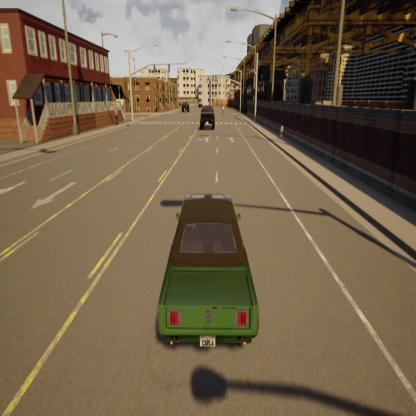Cars: (141, 185, 264, 363), (198, 104, 216, 131), (182, 100, 191, 114)
Pedestrian: (277, 119, 286, 142)
